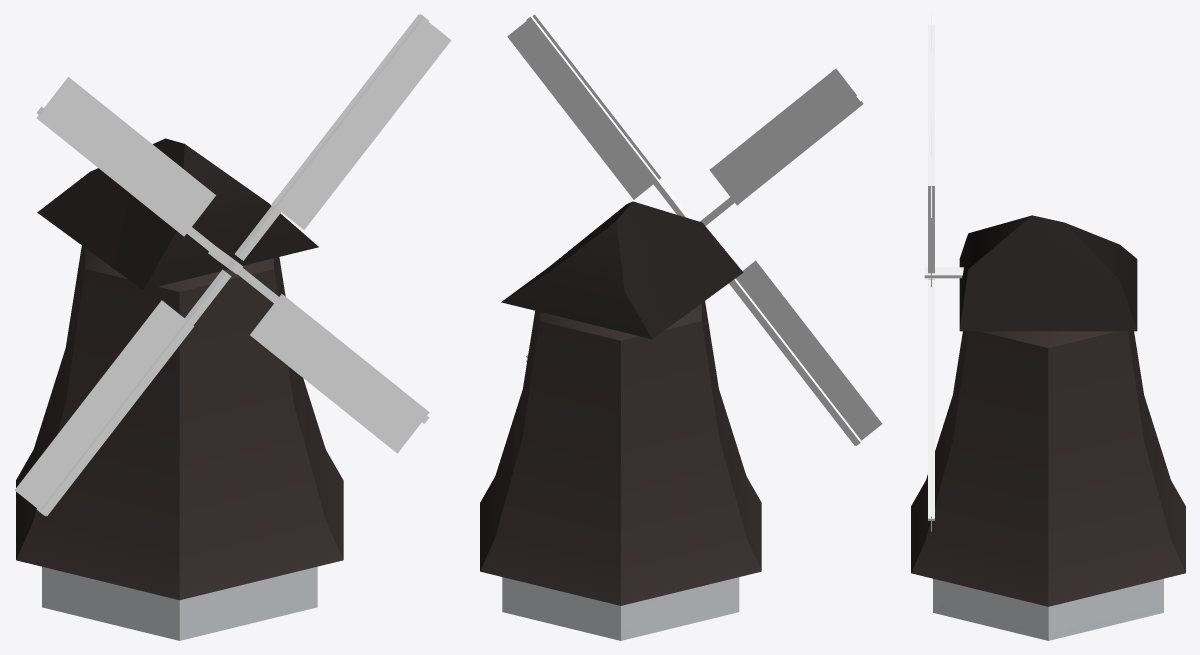
The model's file is windmill.fbx.
3 views of the same model, side by side, from view 1: azimuth 30°, elevation 25°; view 2: azimuth 150°, elevation 25°; view 3: azimuth 270°, elevation 25° (orthographic). The views are drawn at different scales.
Parts seen in each view (by area): view 1: polySurface138; view 2: polySurface138; view 3: polySurface138.
Part boxes in pixels (<box>): polySurface138: <box>14,14,451,640</box>; polySurface138: <box>480,14,882,640</box>; polySurface138: <box>911,14,1185,640</box>.
Bounding box in the file's own units: 10.91 × 14.14 × 7.1.
Materials: 1 (1 with a texture image).
